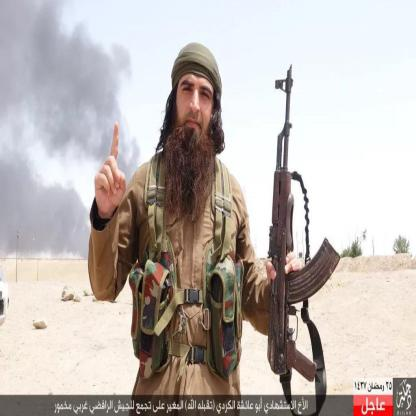rifle: (265, 64, 342, 384)
